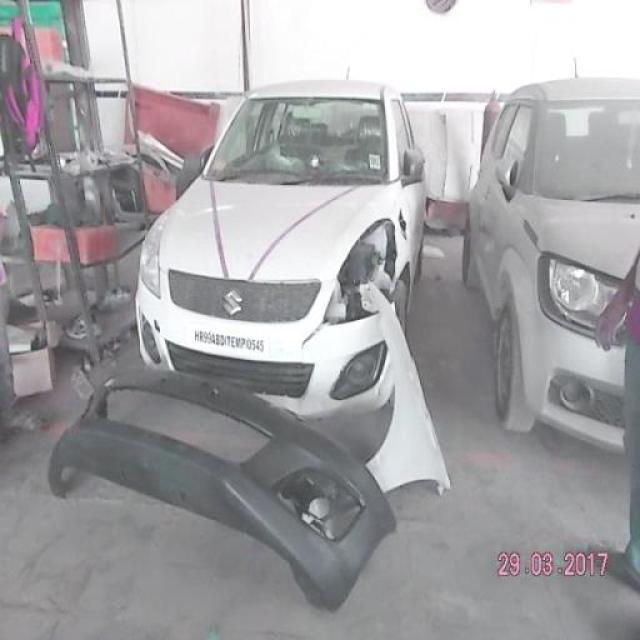Car-Damage: (323, 213, 399, 333), (300, 324, 324, 353), (395, 207, 411, 243)
